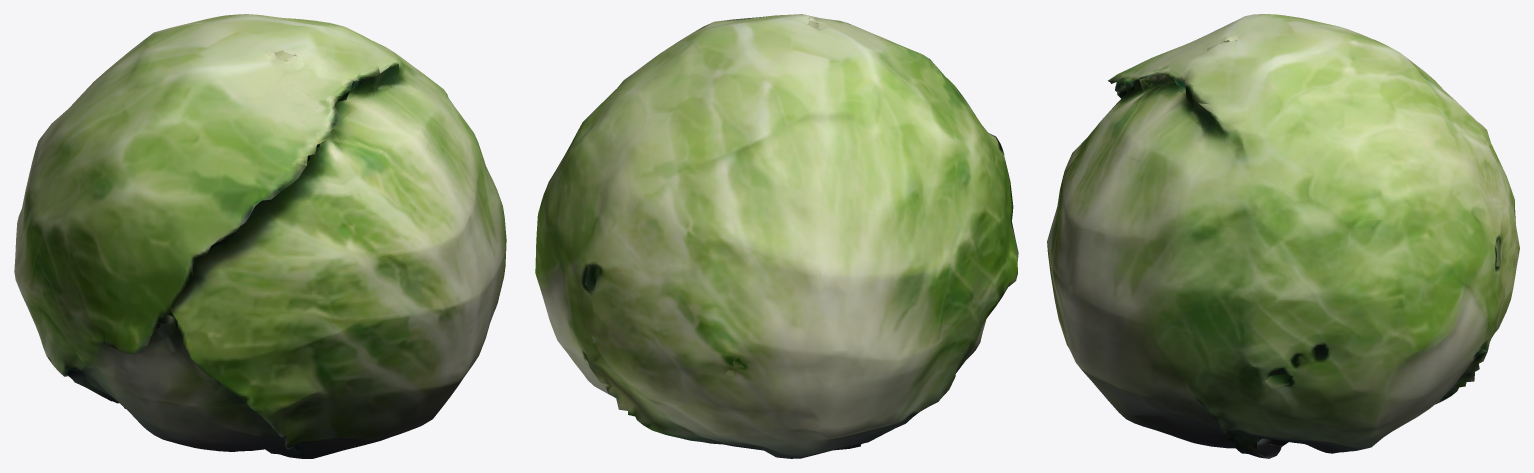
File: lettuce_whole.glb
The picture shows the model from 3 angles, left to right: view 1: azimuth 30°, elevation 25°; view 2: azimuth 150°, elevation 25°; view 3: azimuth 270°, elevation 25°; orthographic projection. The views are drawn at different scales.
Visible parts, largest first — view 1: Cabbage; view 2: Cabbage; view 3: Cabbage.
Boxes of the visible parts, box(x1,y1,x2,y2) form: Cabbage: box(14, 14, 506, 458); Cabbage: box(535, 14, 1018, 458); Cabbage: box(1047, 14, 1519, 458).
Bounding box in the file's own units: 0.194 × 0.1792 × 0.2.
Materials: 1 (1 with a texture image).
